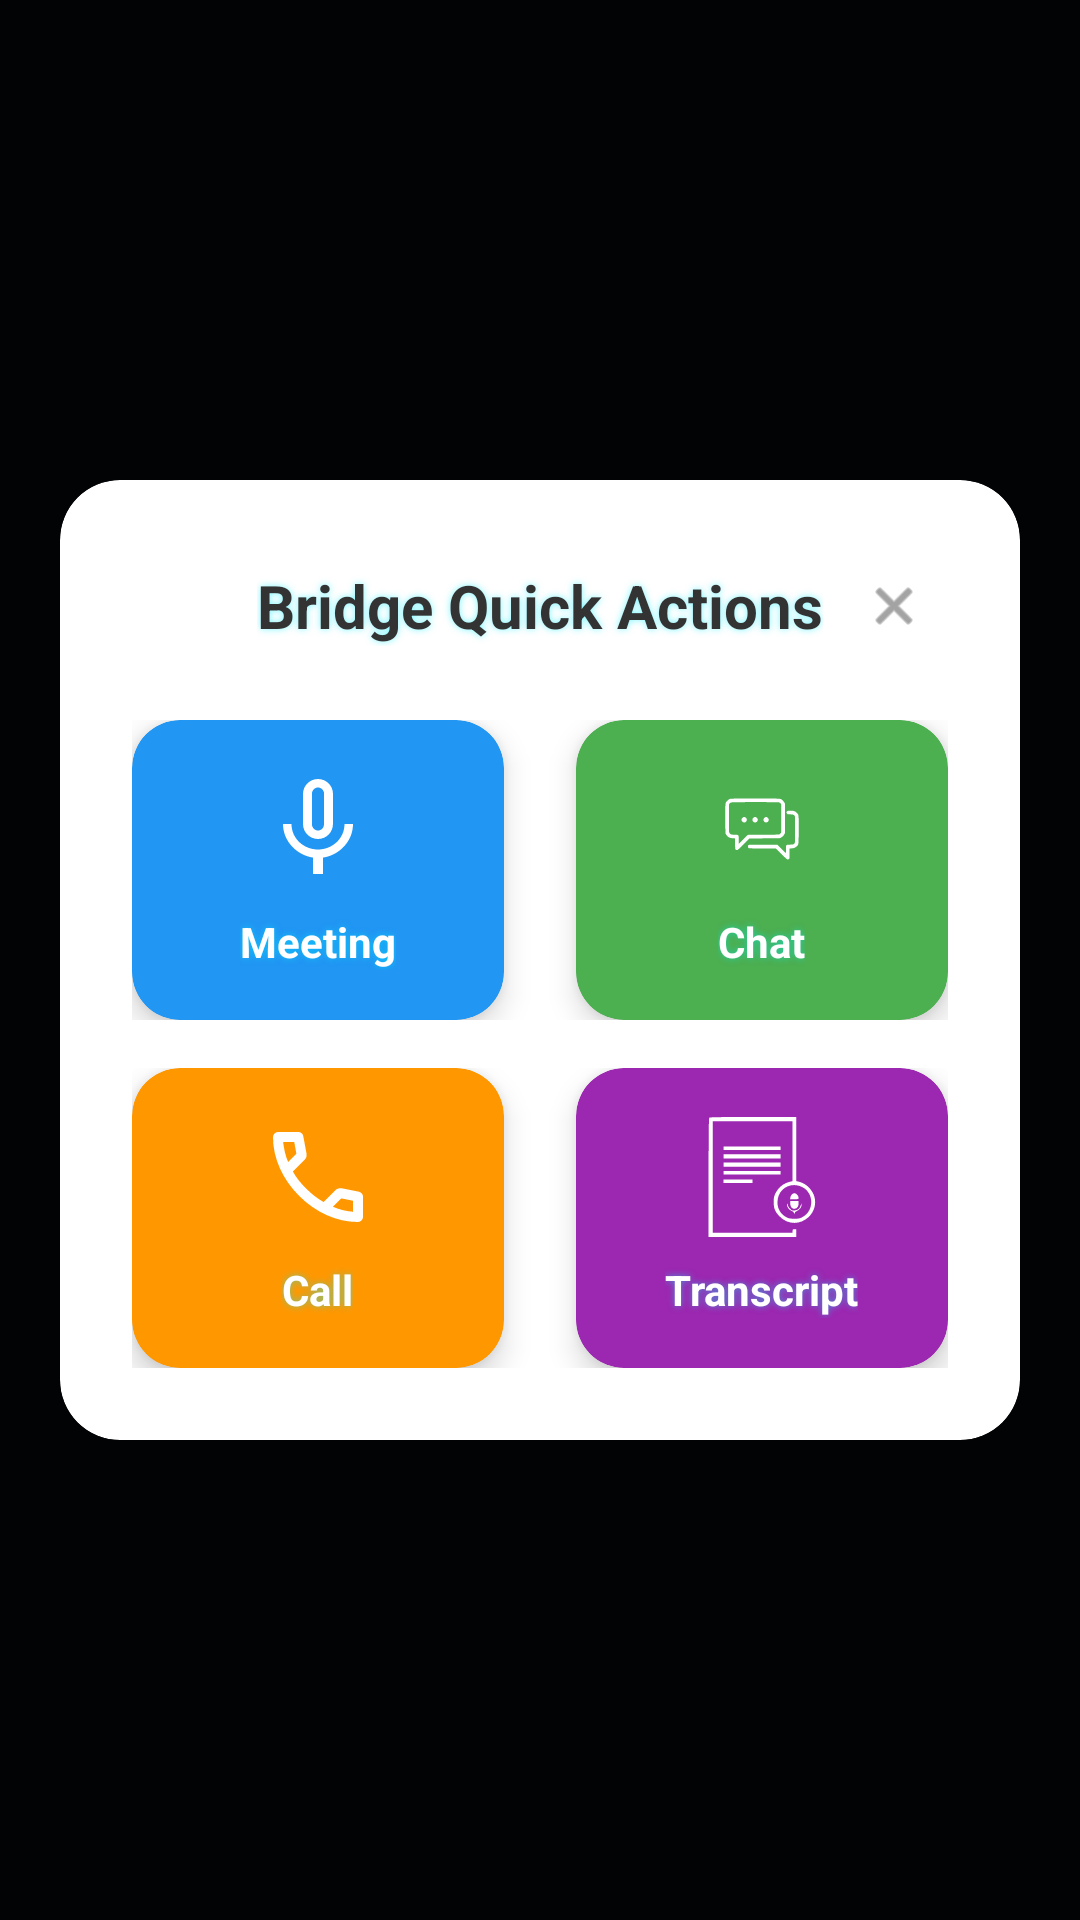

Point at icon controls on the screen. Image size 1080 x 1920, points as [x,y].
Close: [894,606]
mic: [318,826]
